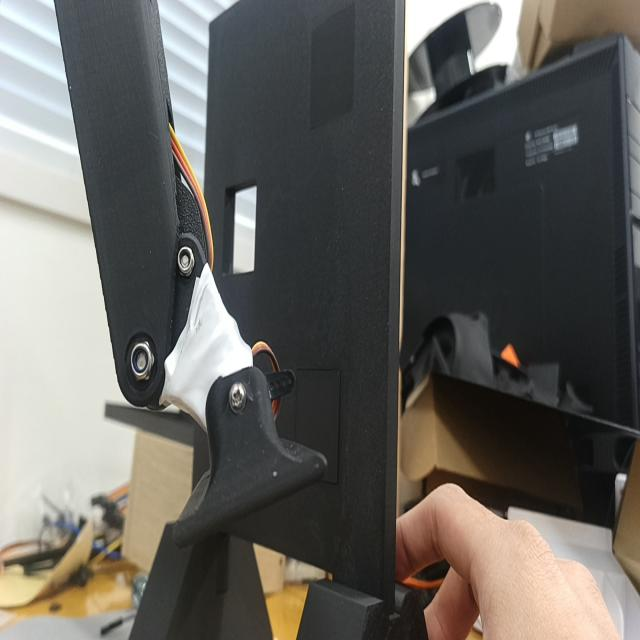Obstacle: (224, 179, 258, 276)
Wall: (204, 0, 404, 609)
